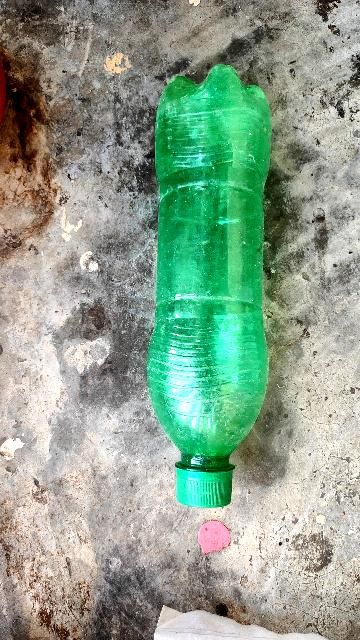bottle: (152, 54, 272, 528)
